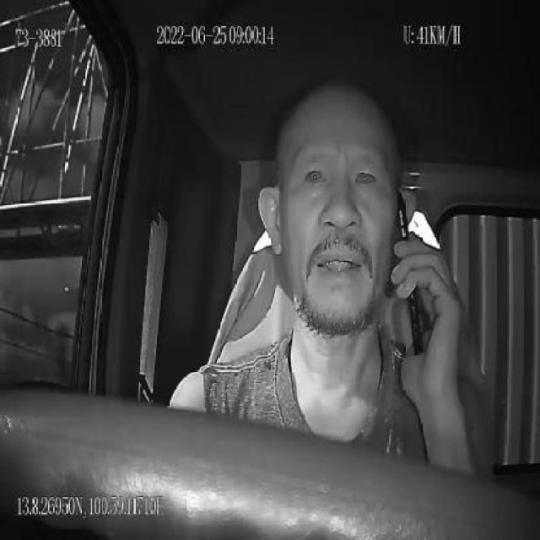phone: (395, 191, 423, 358)
